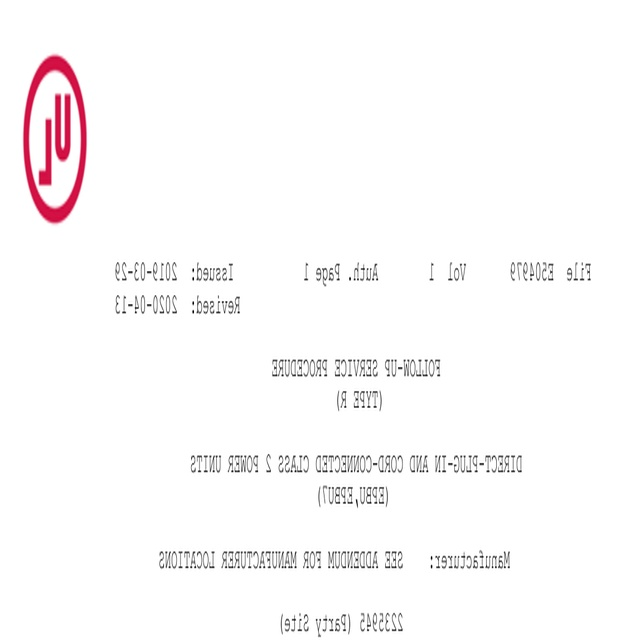ul: (23, 53, 88, 226)
